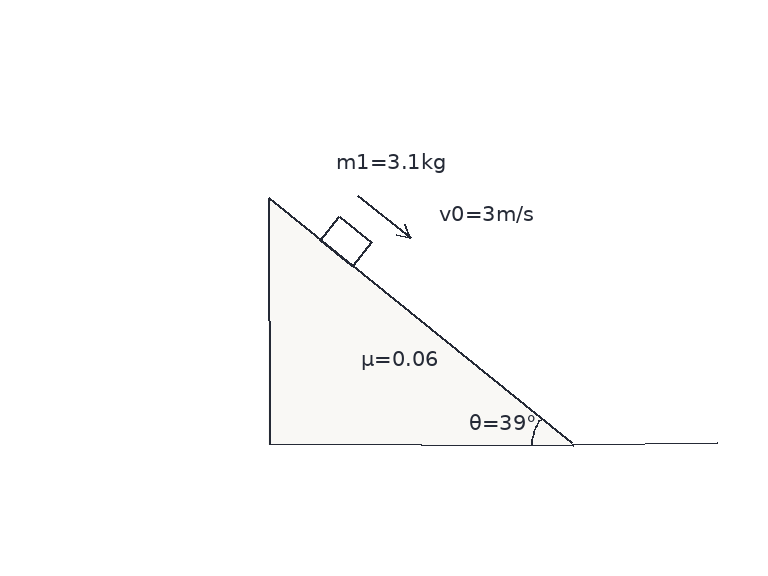block: (317, 214, 373, 268)
ramp: (267, 197, 574, 446)
